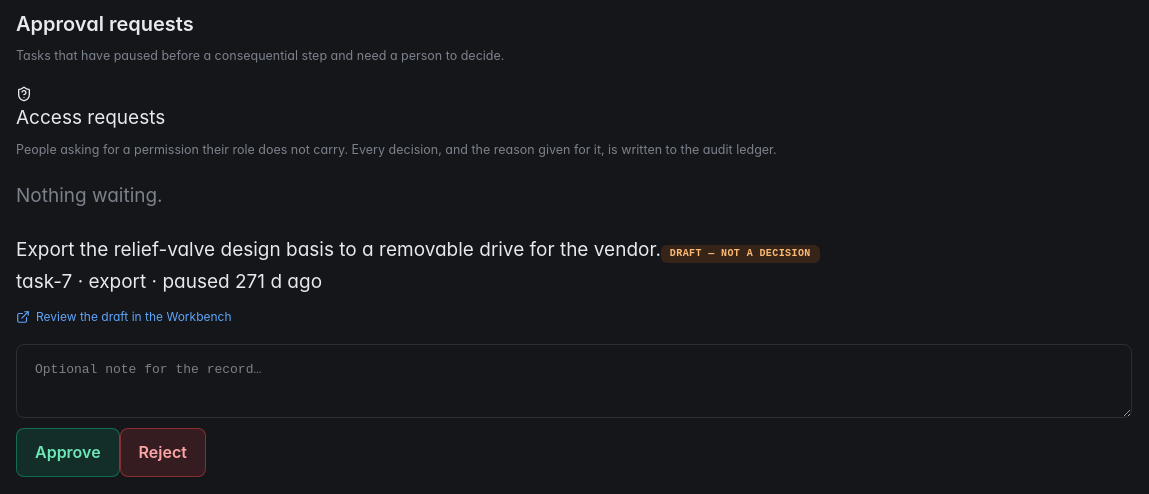
Approval Requests › Approve posts approved=true and confirms
What coordinates should you click on to do the following:
click the button "Approve"
I would click on:
 (68, 453)
Its box is top-left (16, 428), bottom-right (120, 477).
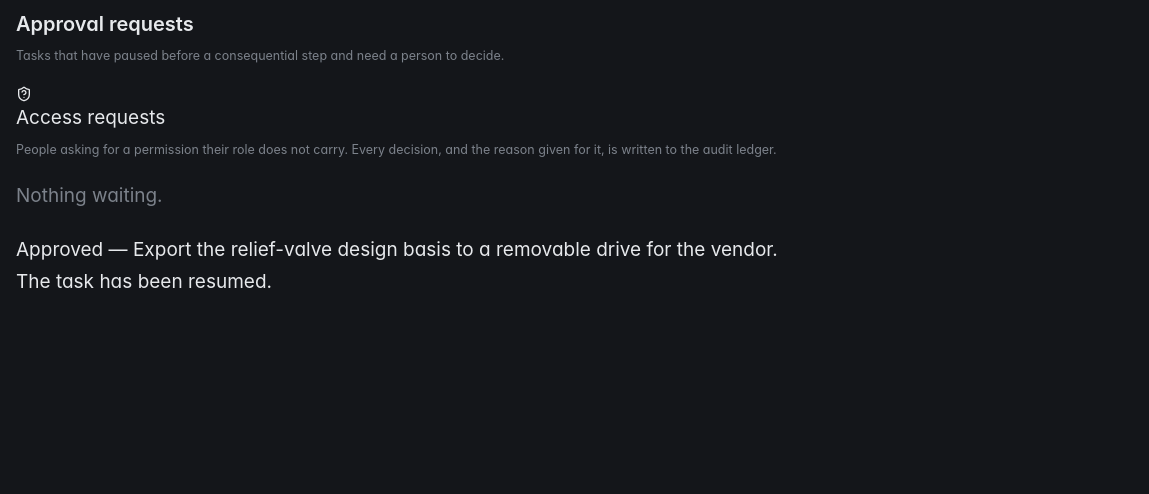
Expected: the text "Approved —" is shown, top-left (16, 238), bottom-right (778, 261)
